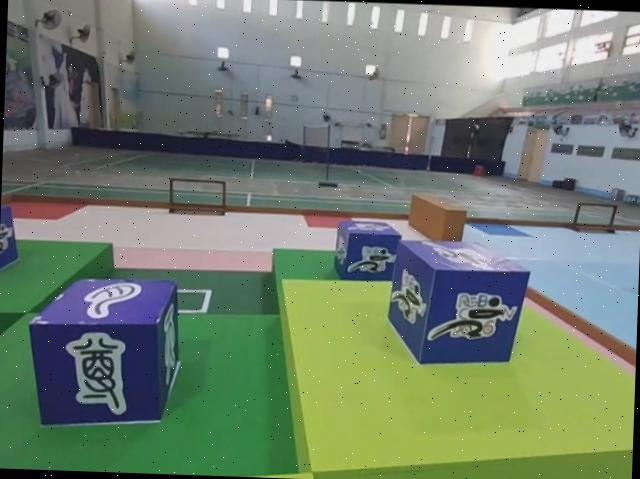R1 Blue: (386, 237, 530, 369), (334, 222, 403, 285), (0, 204, 19, 284)
R2 Fake Blue: (29, 276, 184, 435)
